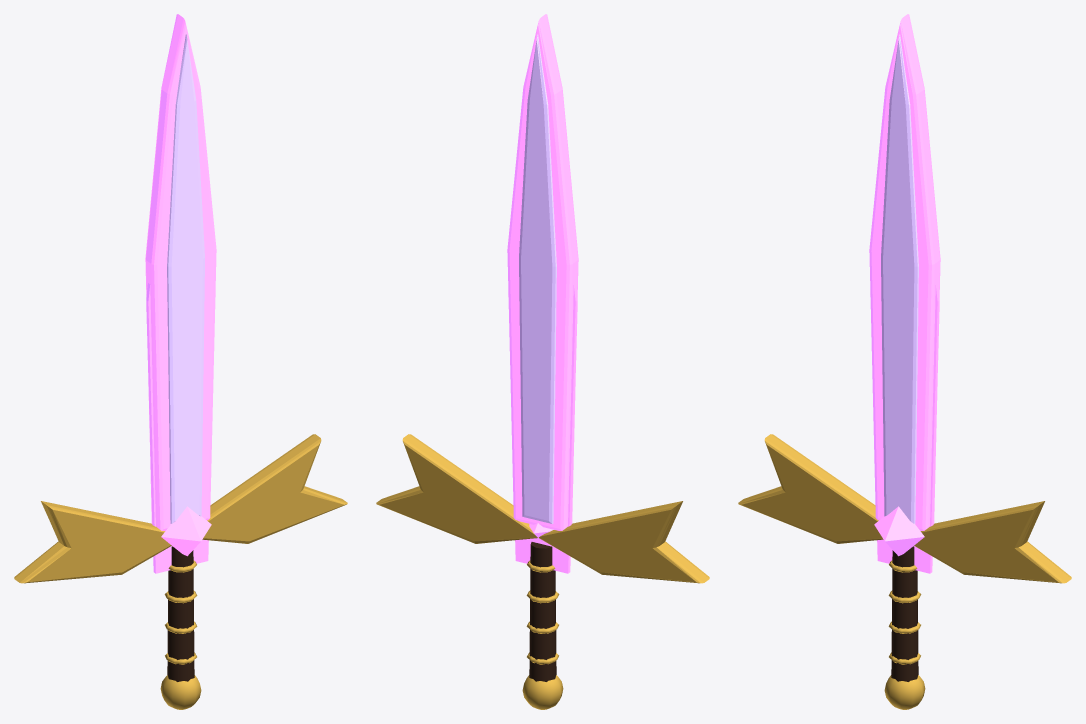
The model's file is sword_f3_667bf71e.glb.
The picture shows the model from 3 angles, left to right: view 1: azimuth 30°, elevation 25°; view 2: azimuth 150°, elevation 25°; view 3: azimuth 330°, elevation 25°; orthographic projection.
Visible parts, largest first — view 1: m5_ow80_, m2_ow80_, m1_gm130_, m4_ow80_, m0_, m3_gm160_; view 2: m5_ow80_, m2_ow80_, m1_gm130_, m4_ow80_, m0_; view 3: m5_ow80_, m2_ow80_, m1_gm130_, m4_ow80_, m0_, m3_gm160_.
Part boxes in pixels (<box>): m5_ow80_: <box>14,434,347,709</box>; m2_ow80_: <box>167,34,204,523</box>; m1_gm130_: <box>145,14,216,530</box>; m4_ow80_: <box>167,546,194,681</box>; m0_: <box>146,283,215,573</box>; m3_gm160_: <box>161,506,211,556</box>; m5_ow80_: <box>376,434,709,709</box>; m2_ow80_: <box>519,34,556,523</box>; m1_gm130_: <box>507,14,578,530</box>; m4_ow80_: <box>529,542,556,681</box>; m0_: <box>508,283,577,573</box>; m5_ow80_: <box>738,434,1071,709</box>; m2_ow80_: <box>881,34,918,523</box>; m1_gm130_: <box>869,14,940,530</box>; m4_ow80_: <box>891,546,918,681</box>; m0_: <box>870,283,939,573</box>; m3_gm160_: <box>874,506,924,556</box>.
Size of the model in its own units: 1.03 by 2.08 by 0.1633.
